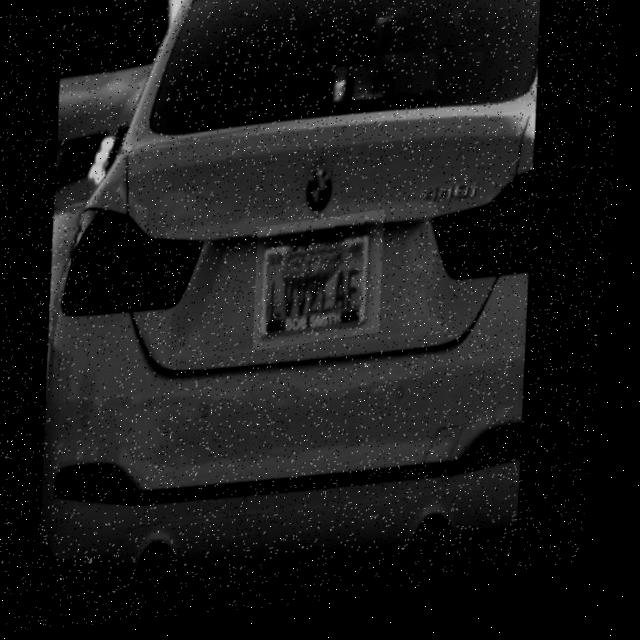LicensePlate: (254, 217, 396, 357)
